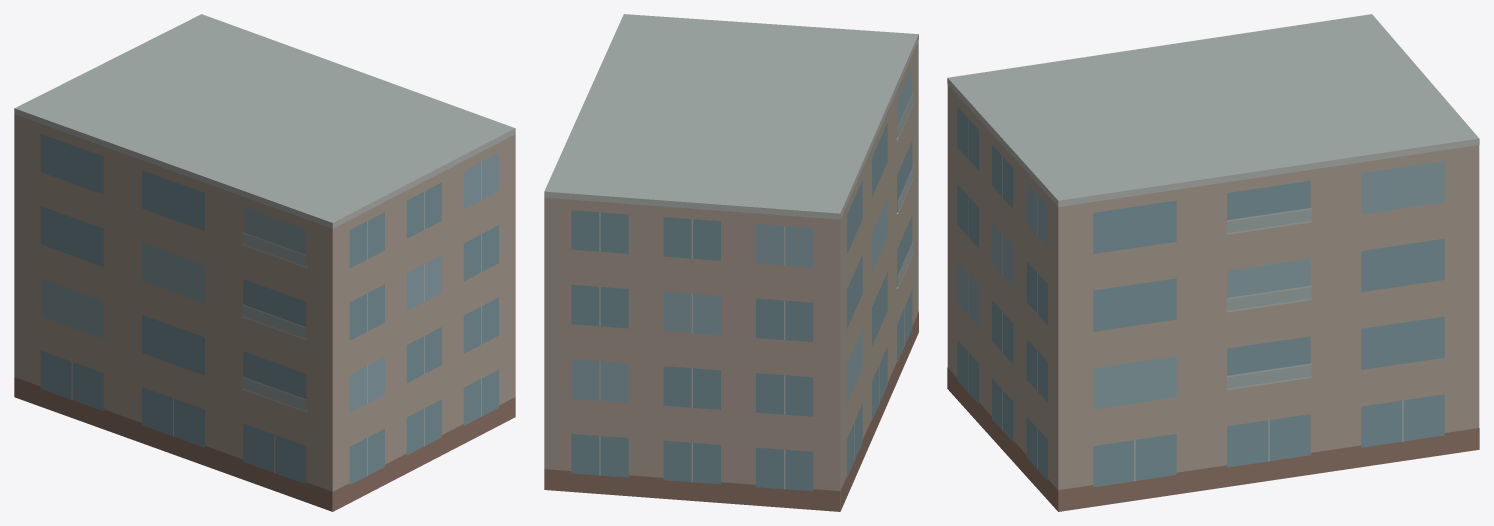
Rendered from survey-upis-32852961.glb.
3 views of the same model, side by side, from view 1: azimuth 30°, elevation 25°; view 2: azimuth 150°, elevation 25°; view 3: azimuth 270°, elevation 25° (orthographic). The views are drawn at different scales.
Parts seen in each view (by area): view 1: survey-upis-32852961.tmp; view 2: survey-upis-32852961.tmp; view 3: survey-upis-32852961.tmp.
Part boxes in pixels (x1,y1,x2,y2): survey-upis-32852961.tmp: [14, 14, 515, 511]; survey-upis-32852961.tmp: [544, 14, 918, 511]; survey-upis-32852961.tmp: [947, 14, 1479, 511].
Bounding box in the file's own units: 15.38 × 11.94 × 18.51.
